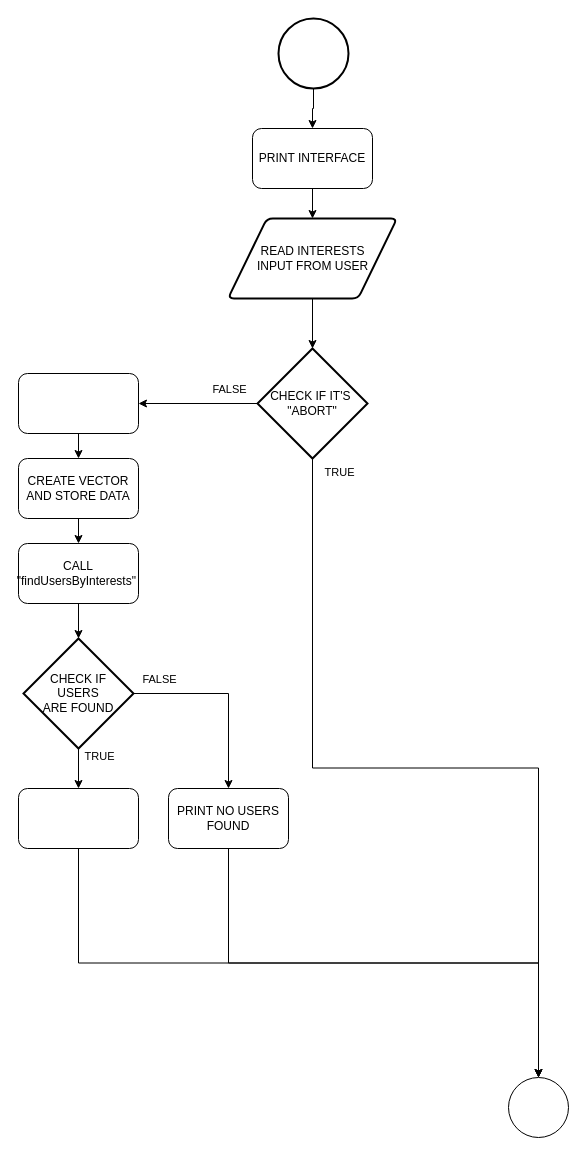
Some shapes in this 586 by 1155 pixel diagram are drawn without their labels. Here are the shapes that lost their labels. From the top down, the box of each, then its label:
(277, 17, 349, 89): START
(18, 372, 138, 434): PARSE INTERESTS INPUT
(18, 788, 138, 848): PRINT USERS WITH SPECIFIC INTERESTS
(508, 1076, 568, 1138): END
